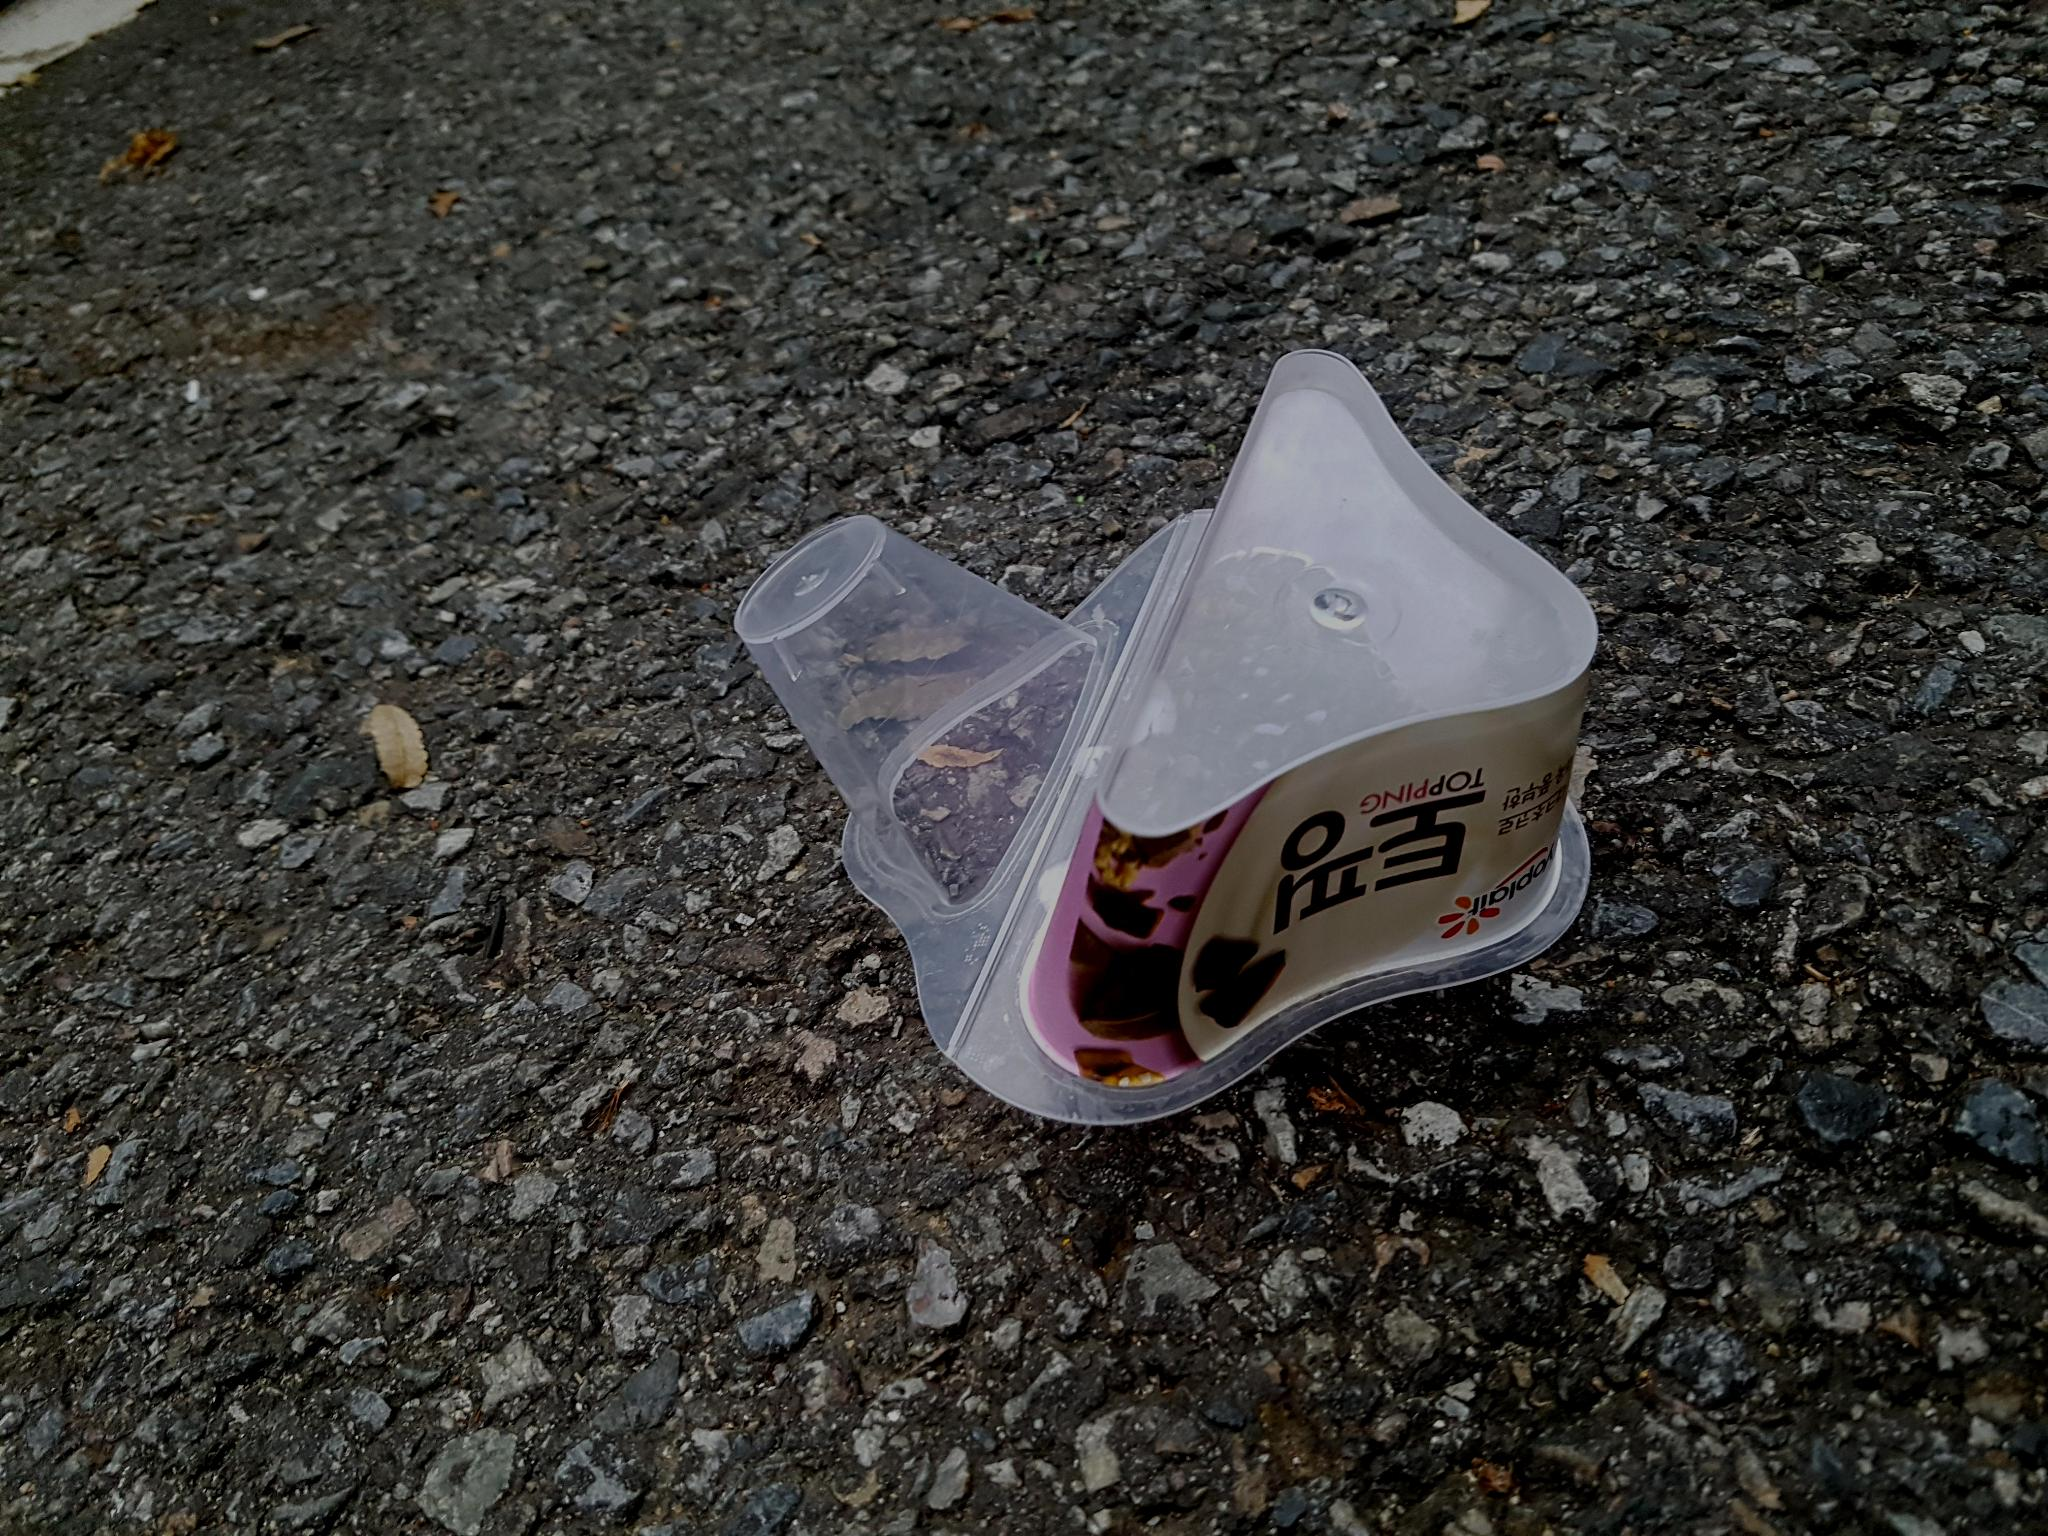bottle: (695, 399, 1677, 1012)
